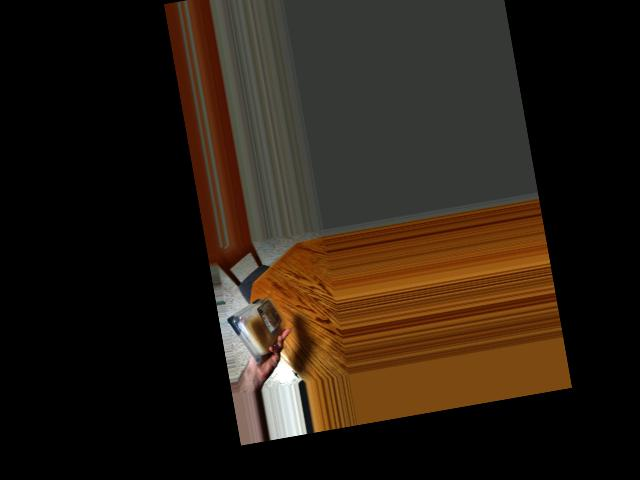cheese: (233, 295, 283, 360)
